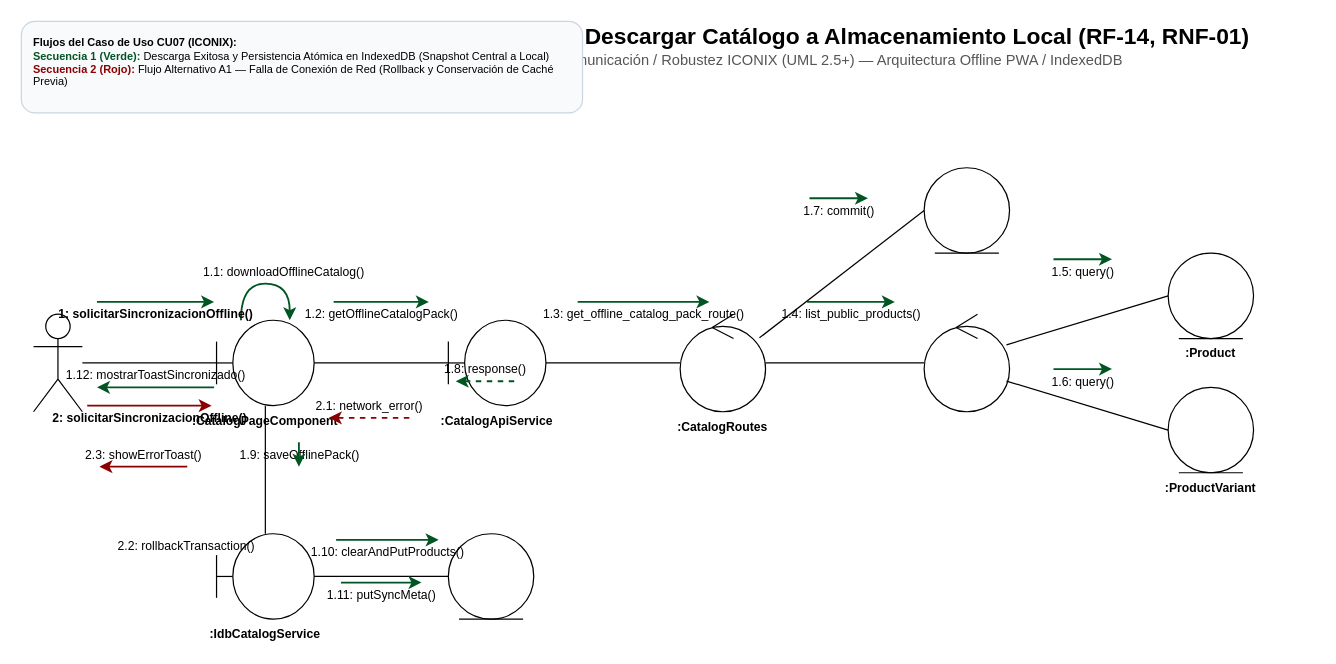
This 1336x664 diagram has some shape labels left out. The shapes that lost their labels are listed below. From the top down, each one's centre as x and y in pixels, then its label:
[966,210]: :CatalogCache
[57,362]: :Cajero
[966,362]: :CatalogService
[490,576]: :IdbCatalogStore
